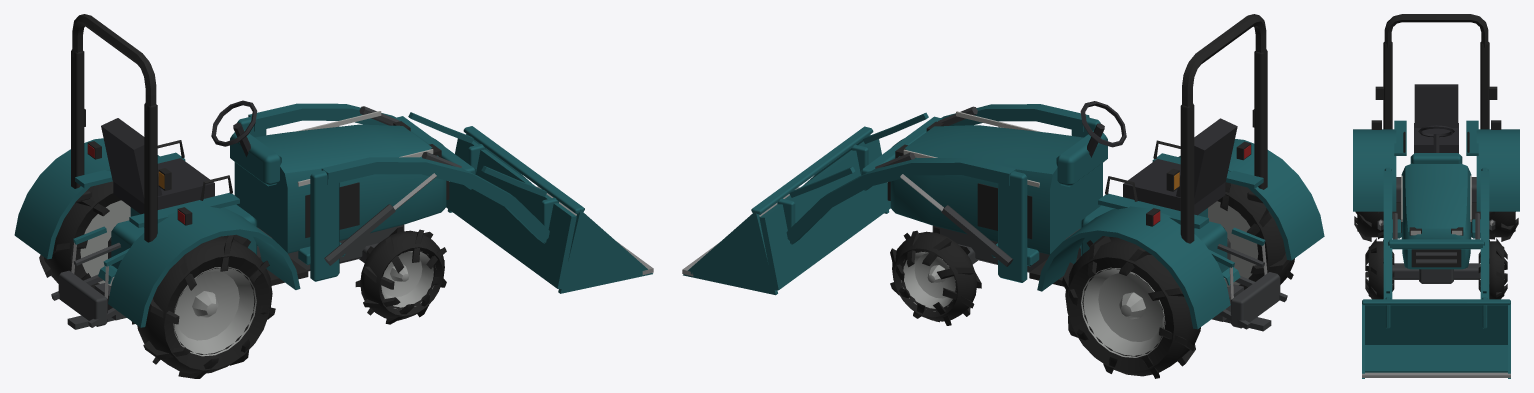
File: SM_Prop_farm_tractor_compact_0_LOD1.glb
The picture shows the model from 3 angles, left to right: view 1: azimuth 30°, elevation 25°; view 2: azimuth 150°, elevation 25°; view 3: azimuth 270°, elevation 25°; orthographic projection. The views are drawn at different scales.
Visible parts, largest first — view 1: SM_Prop_farm_tractor_compact_0_LOD1; view 2: SM_Prop_farm_tractor_compact_0_LOD1; view 3: SM_Prop_farm_tractor_compact_0_LOD1.
Part boxes in pixels (left/top/right/bottom): SM_Prop_farm_tractor_compact_0_LOD1: left=14, top=14, right=653, bottom=378; SM_Prop_farm_tractor_compact_0_LOD1: left=682, top=14, right=1324, bottom=378; SM_Prop_farm_tractor_compact_0_LOD1: left=1353, top=14, right=1519, bottom=378.
Bounding box in the file's own units: 3.9 × 2.23 × 1.62.
